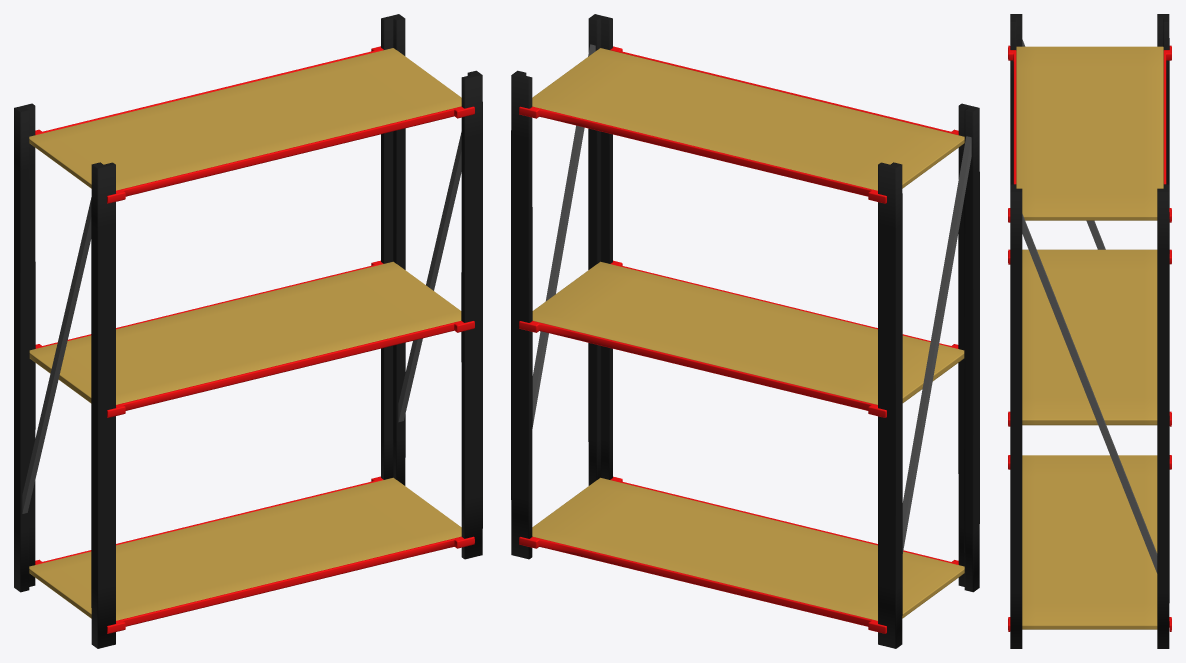
The model's file is Storage_Shelf.fbx.
3 renders of one model, left to right at view 1: azimuth 30°, elevation 25°; view 2: azimuth 150°, elevation 25°; view 3: azimuth 270°, elevation 25°, orthographic. The views are drawn at different scales.
Visible parts, largest first — view 1: Box002; view 2: Box002; view 3: Box002.
Part boxes in pixels (x1,y1,x2,y2): Box002: (14, 14, 482, 648); Box002: (511, 14, 979, 648); Box002: (1008, 14, 1171, 648).
Size of the model in its own units: 84 by 100 by 32.53.
